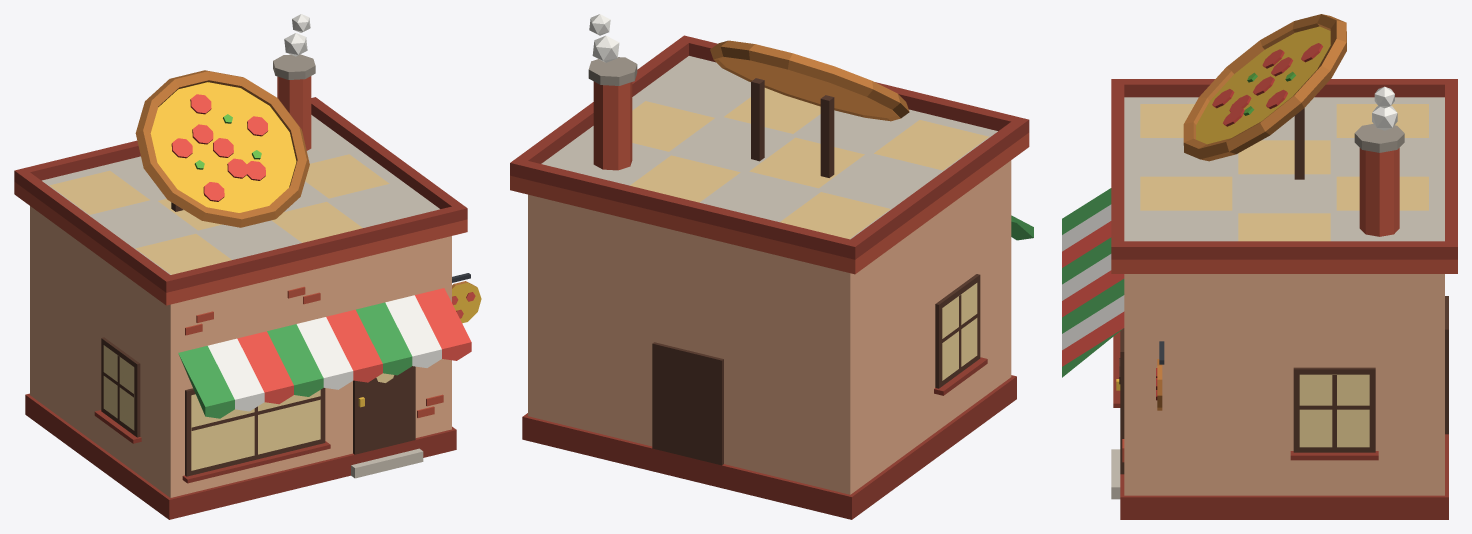
File: B_Pizzeria.fbx
The picture shows the model from 3 angles, left to right: view 1: azimuth 30°, elevation 25°; view 2: azimuth 150°, elevation 25°; view 3: azimuth 270°, elevation 25°; orthographic projection. The views are drawn at different scales.
Visible parts, largest first — view 1: B_Pizzeria; view 2: B_Pizzeria; view 3: B_Pizzeria.
Part boxes in pixels (left/top/right/bottom): B_Pizzeria: left=14, top=14, right=481, bottom=519; B_Pizzeria: left=510, top=14, right=1033, bottom=519; B_Pizzeria: left=1062, top=14, right=1457, bottom=519.
Size of the model in its own units: 4.41 by 4.53 by 3.95.
